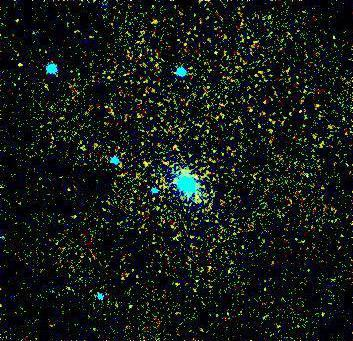star: (163, 167, 193, 197)
